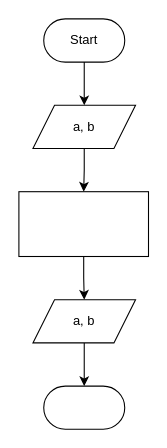
Image size: 167x448. Some labels were removed from this diagram. The centre of each missing label's shape, as x and y in pixels:
c = a a = b b = c: the point at 83,223
End: the point at 84,407
